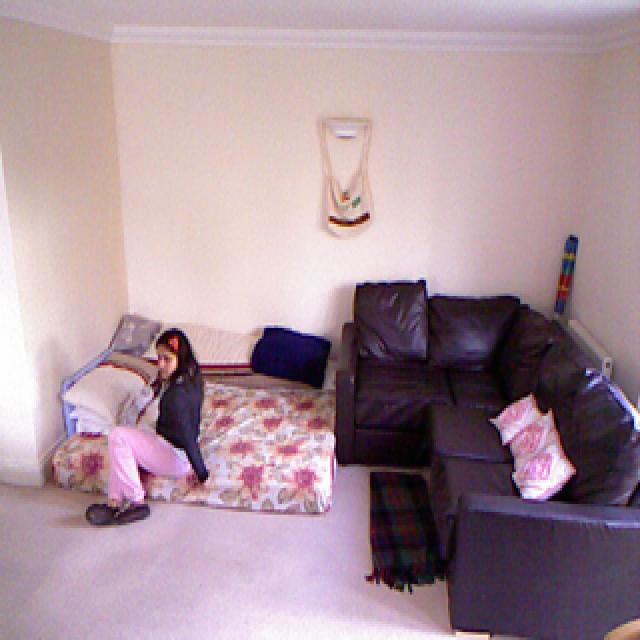sitting: (85, 328, 209, 529)
